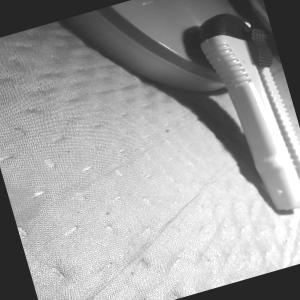estilete: (191, 1, 300, 223)
